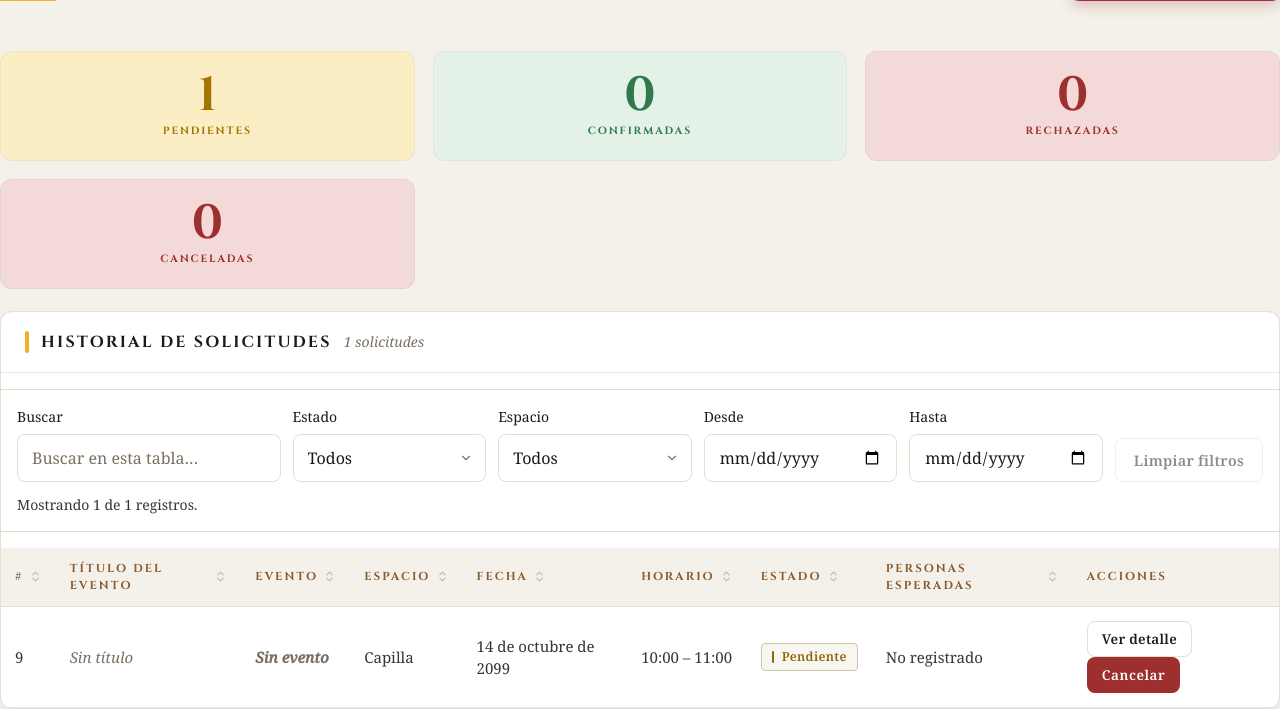
Scenario: MisReservasPage — historial › muestra el nombre del espacio en el diálogo de cancelación si no tiene título de evento
(page scrolled)
Click the button "Cancelar".
click(1134, 675)  # box [1087,657,1180,693]
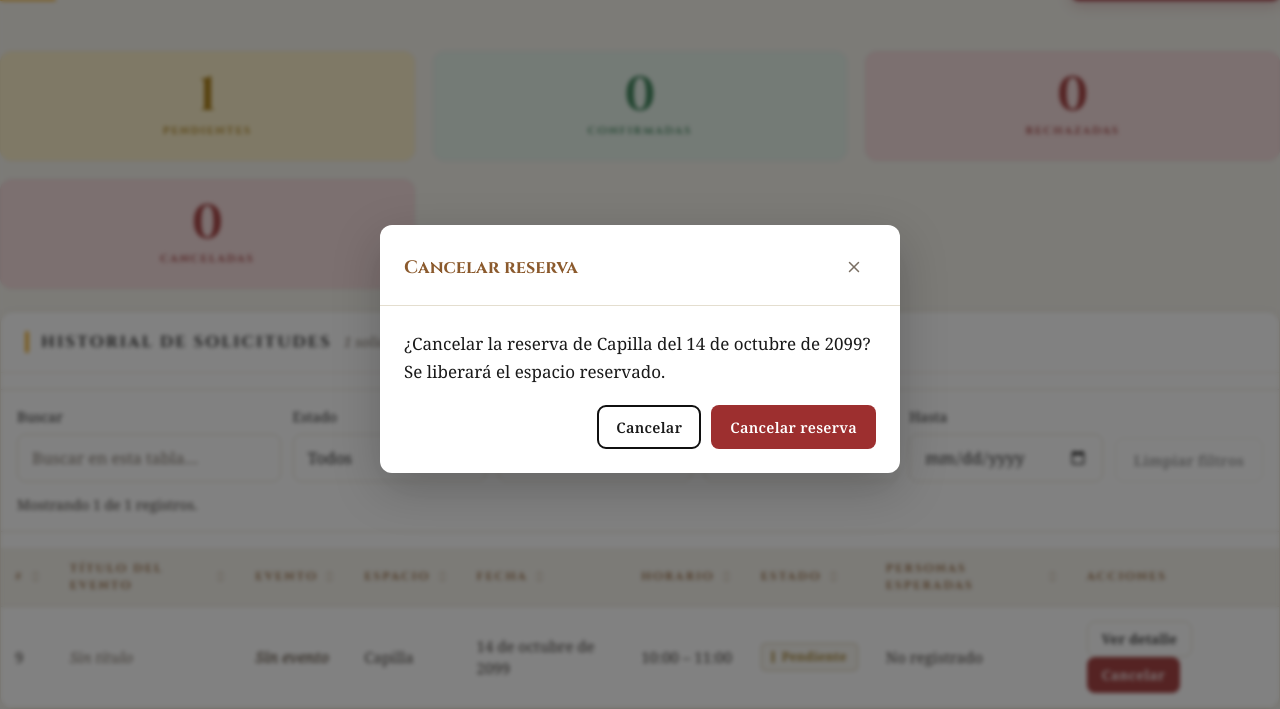
Expected: the dialog shows "¿Cancelar la reserva de Capilla", [404,332,871,382]
